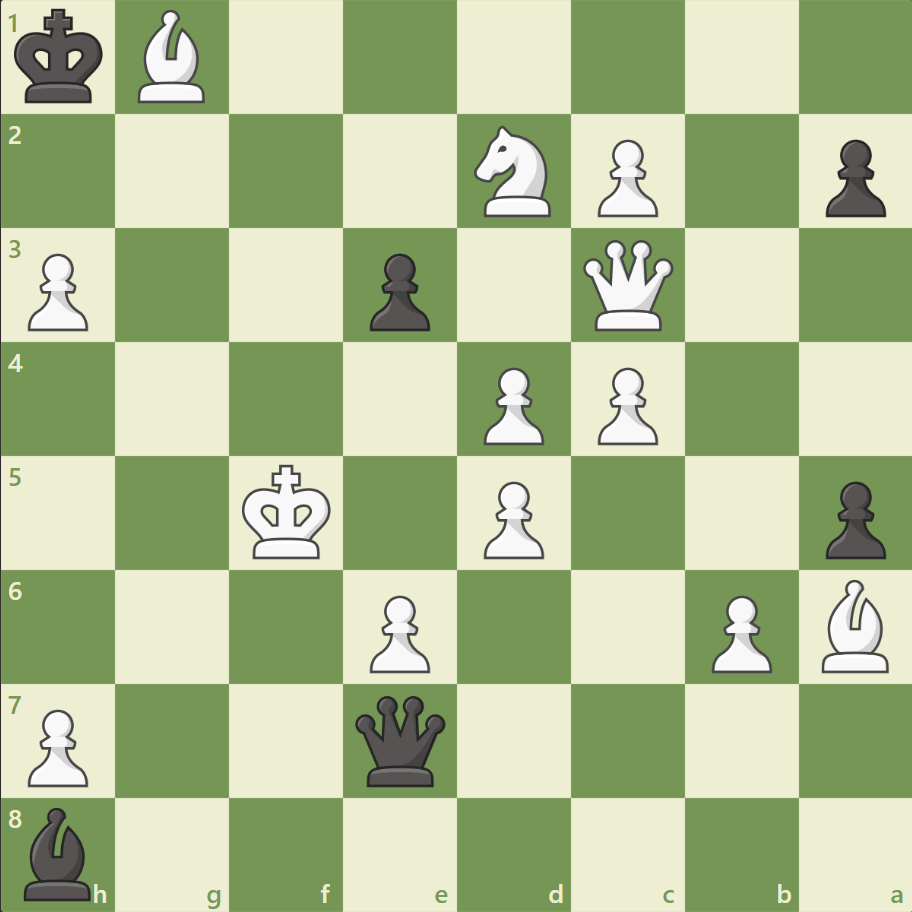B: (131, 6, 215, 109), (812, 574, 896, 676)
K: (238, 458, 338, 566)
N: (465, 121, 562, 223)
P: (20, 700, 95, 791), (701, 586, 776, 677), (474, 473, 549, 564), (474, 359, 549, 450), (20, 246, 95, 337), (361, 586, 435, 677), (588, 359, 662, 450), (588, 132, 662, 223)
Q: (578, 236, 677, 335)
b: (17, 801, 101, 904)
k: (11, 4, 111, 112)
p: (815, 473, 889, 564), (361, 246, 435, 337), (815, 132, 889, 223)
q: (351, 690, 450, 789)
